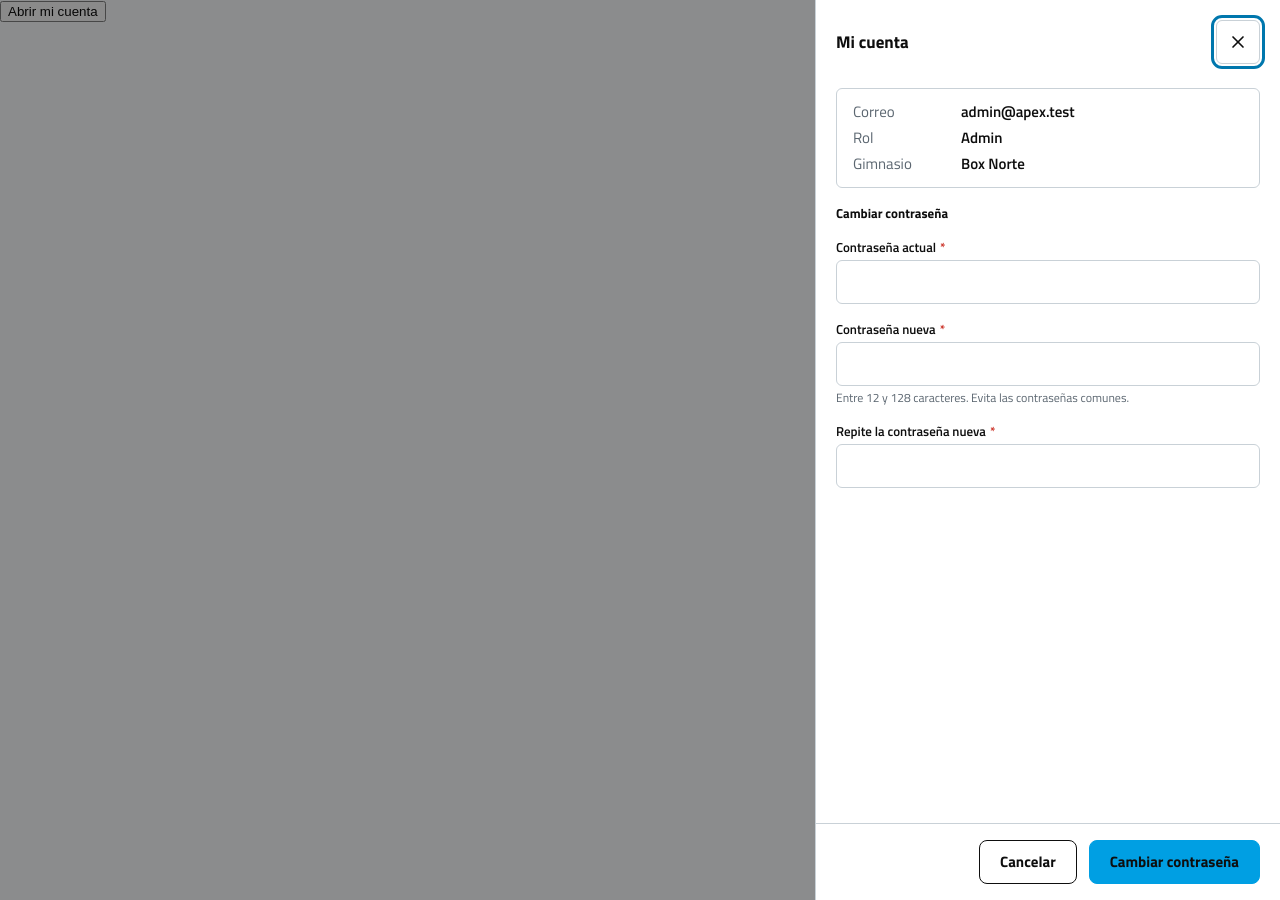
Test: ChangePasswordPanel · errores del api › 422 current_password se muestra bajo la contraseña actual
Type "Clave-inicial-2026" into the password field labelled "Contraseña actual*" at (1048, 282), box [836,260,1260,304]
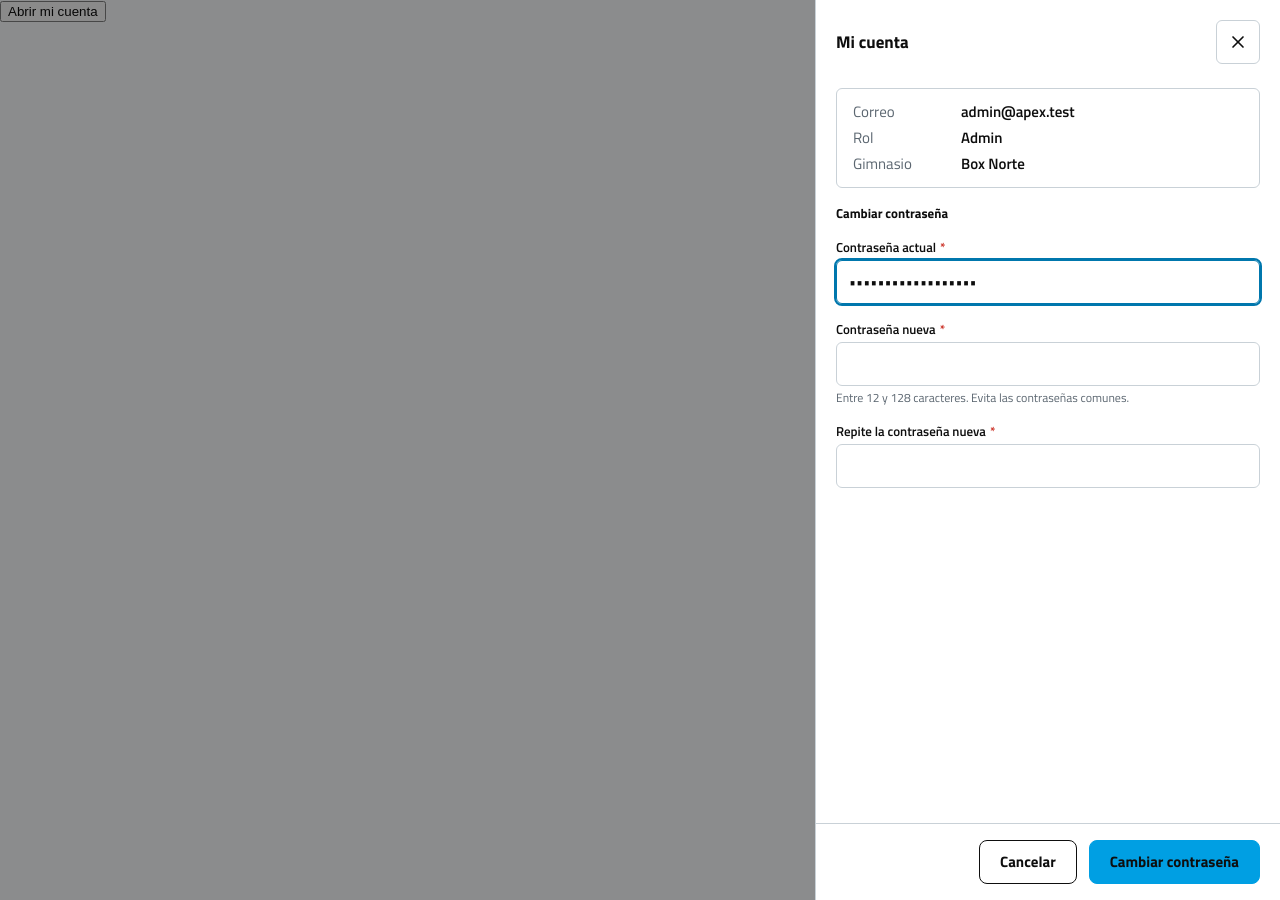
Type "Clave-nueva-segura-2026" into the password field labelled "Contraseña nueva*" at (1048, 364), box [836,342,1260,386]
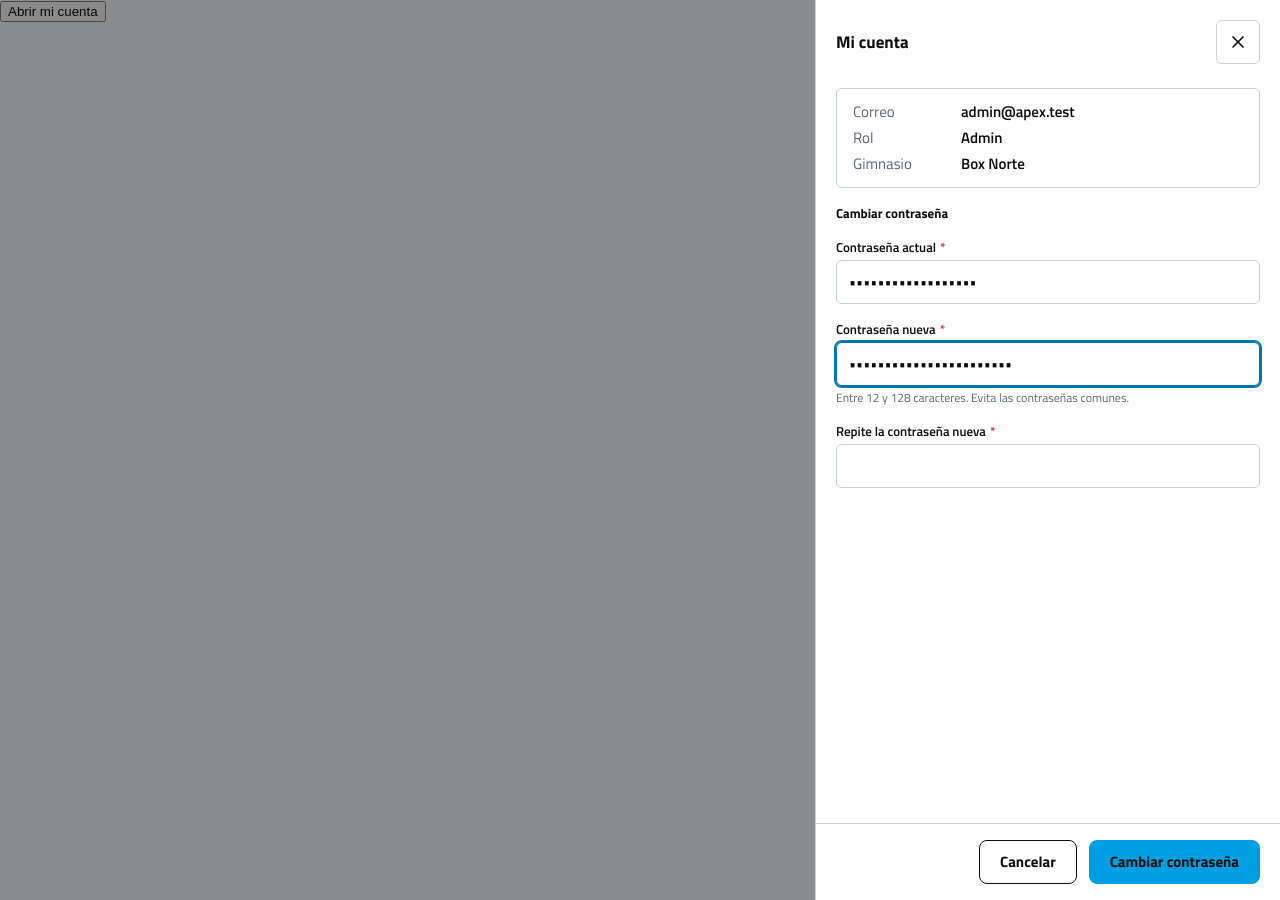
Type "Clave-nueva-segura-2026" into the password field labelled "Repite la contraseña nueva*" at (1048, 466), box [836,444,1260,488]
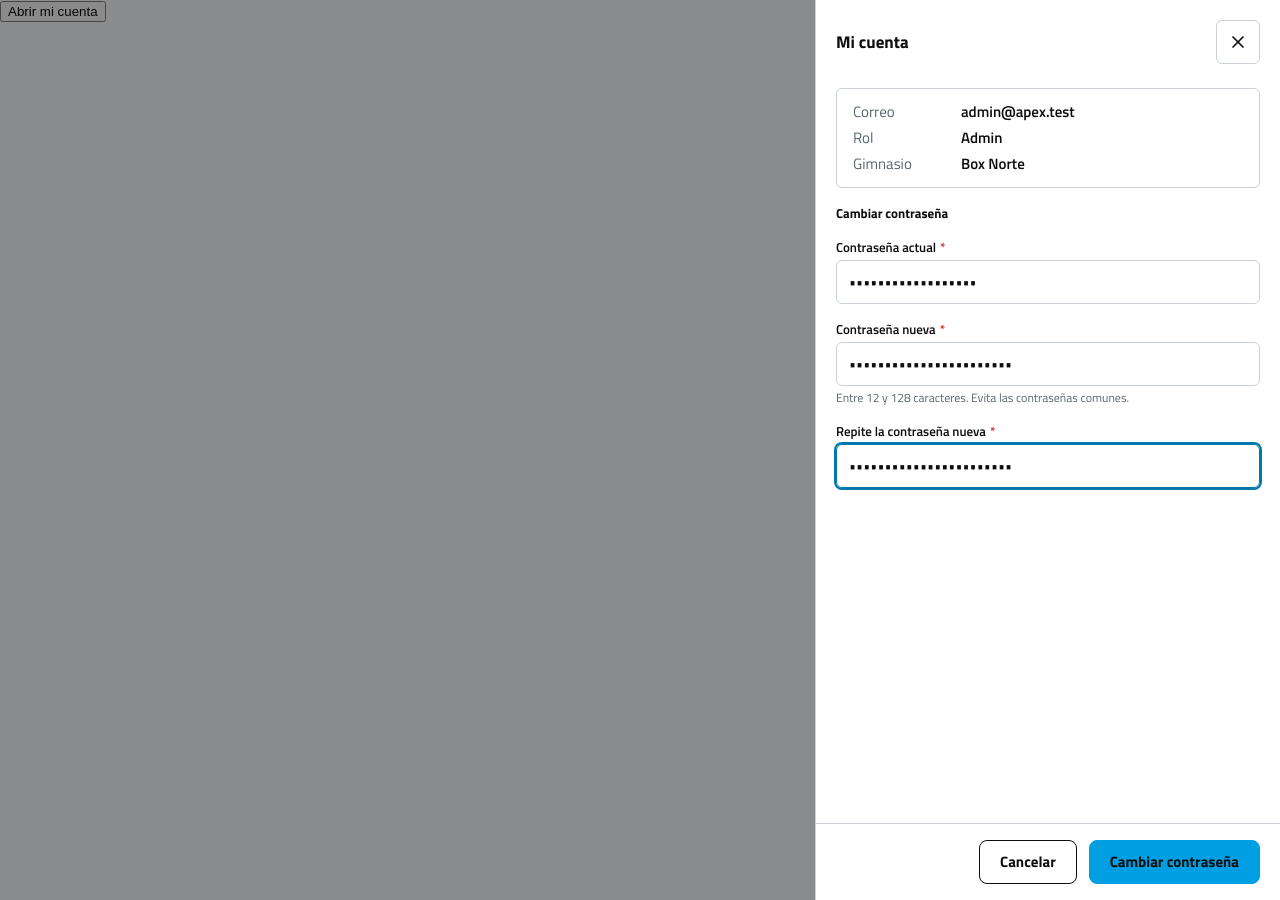
Click the button "Cambiar contraseña" at (1174, 862), box [1089,840,1260,884]
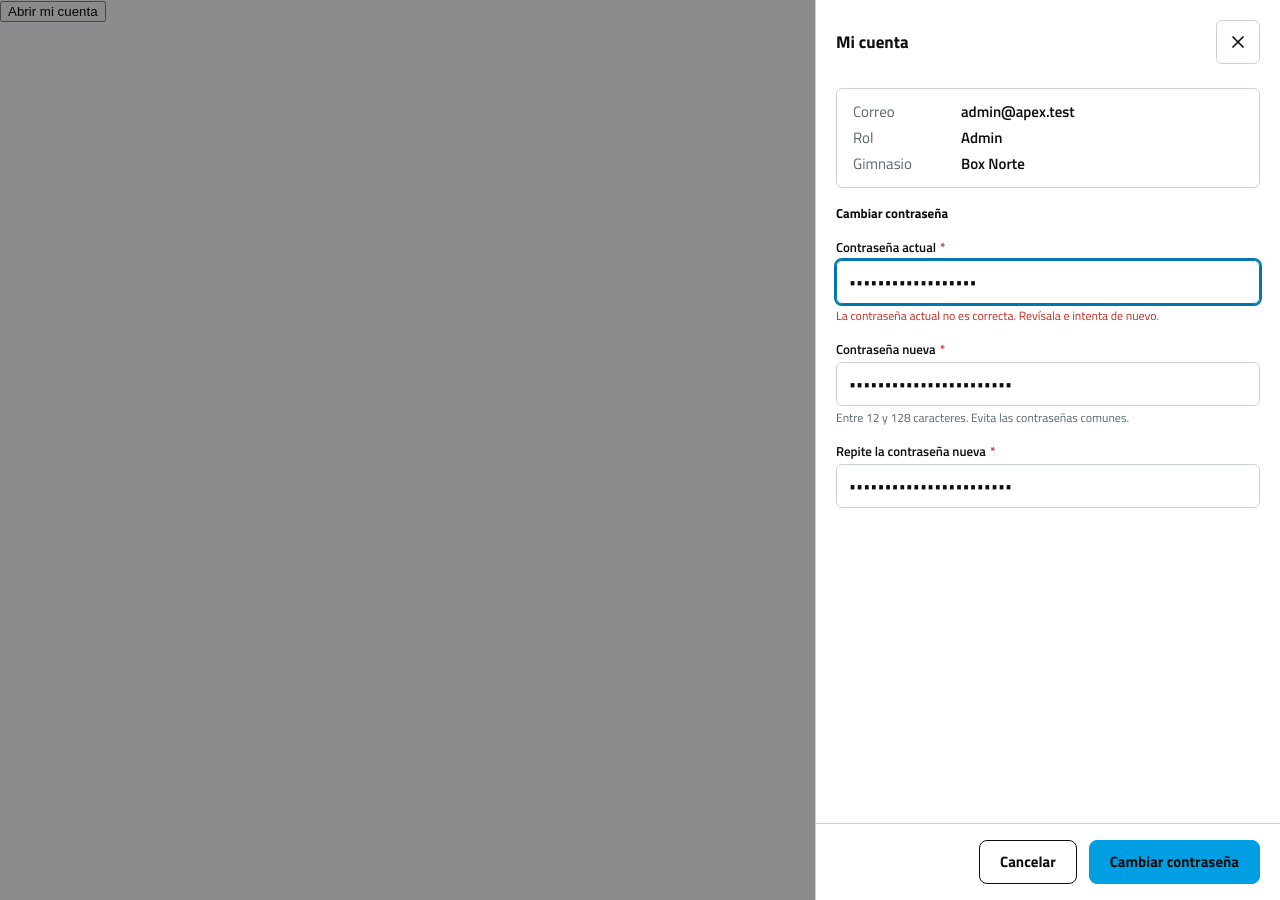
Check: the dialog "Mi cuenta" is shown, box [815,0,1279,899]
Check: the text "La contraseña actual no es correcta. Revísala e intenta de nuevo." is shown, box [836,306,1159,325]
